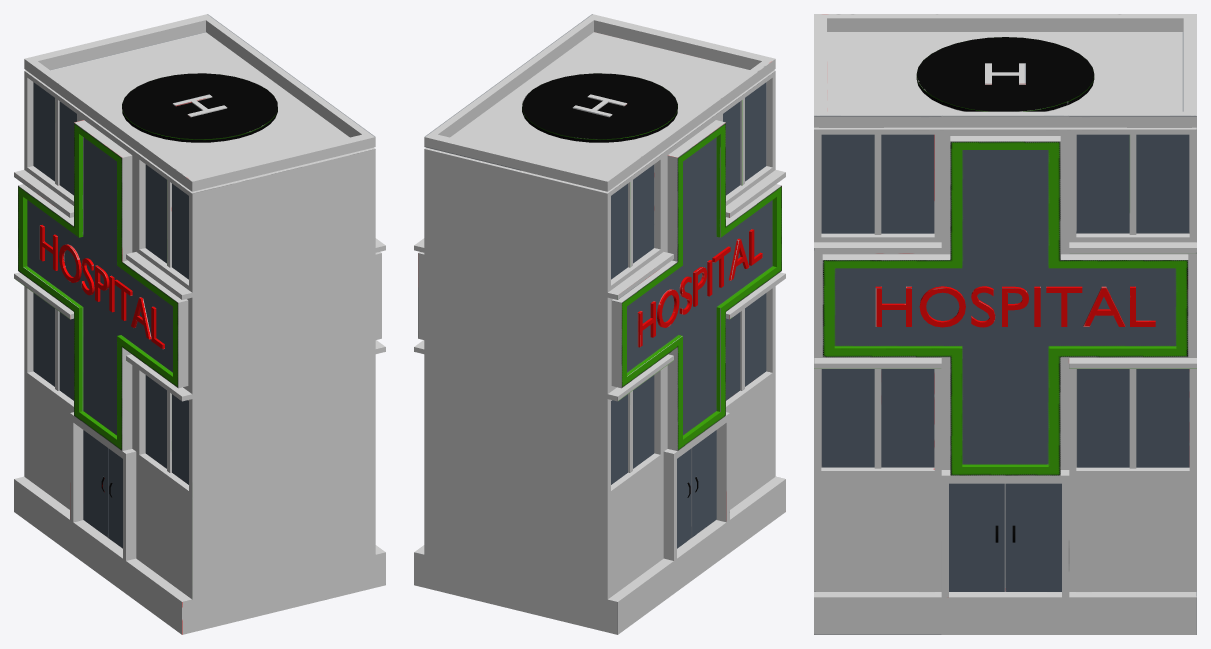
The picture shows the model from 3 angles, left to right: view 1: azimuth 30°, elevation 25°; view 2: azimuth 150°, elevation 25°; view 3: azimuth 270°, elevation 25°; orthographic projection. The views are drawn at different scales.
Visible parts, largest first — view 1: Hospital; view 2: Hospital; view 3: Hospital.
Boxes of the visible parts, <box> form: Hospital: <box>14,14,385,634</box>; Hospital: <box>414,14,785,634</box>; Hospital: <box>814,14,1196,634</box>.
Size of the model in its own units: 175 by 370 by 250.
Materials: 1 (1 with a texture image).
